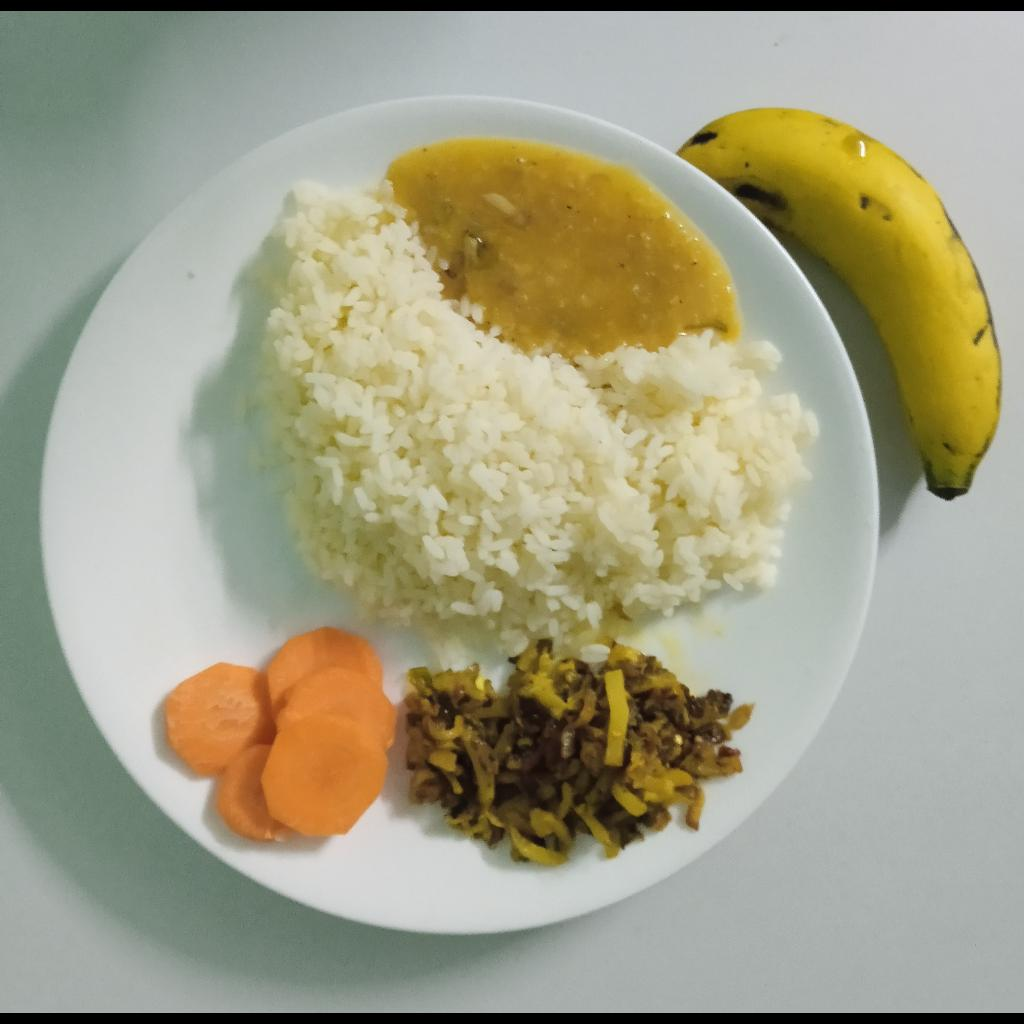banana: (675, 107, 1002, 502)
carrot: (165, 621, 397, 844)
daal: (384, 137, 744, 347)
rice: (235, 182, 821, 653)
vegetable: (403, 639, 755, 867)
